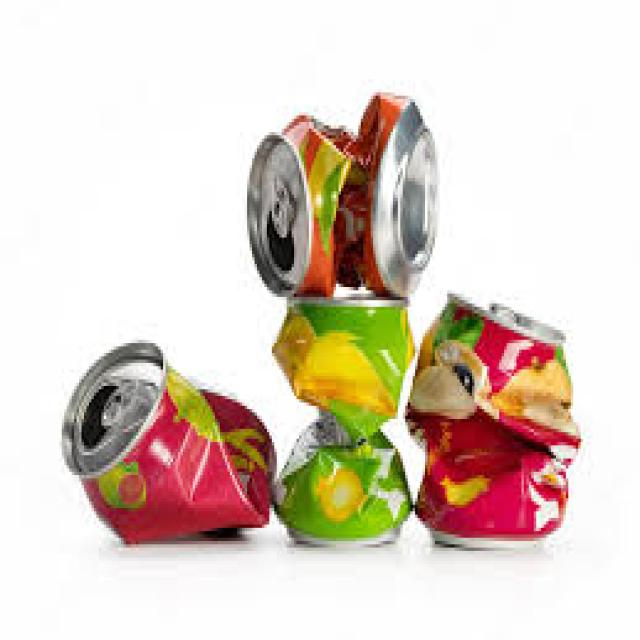Metal: (411, 300, 584, 556), (65, 349, 280, 549), (248, 94, 437, 300), (272, 299, 414, 543)
